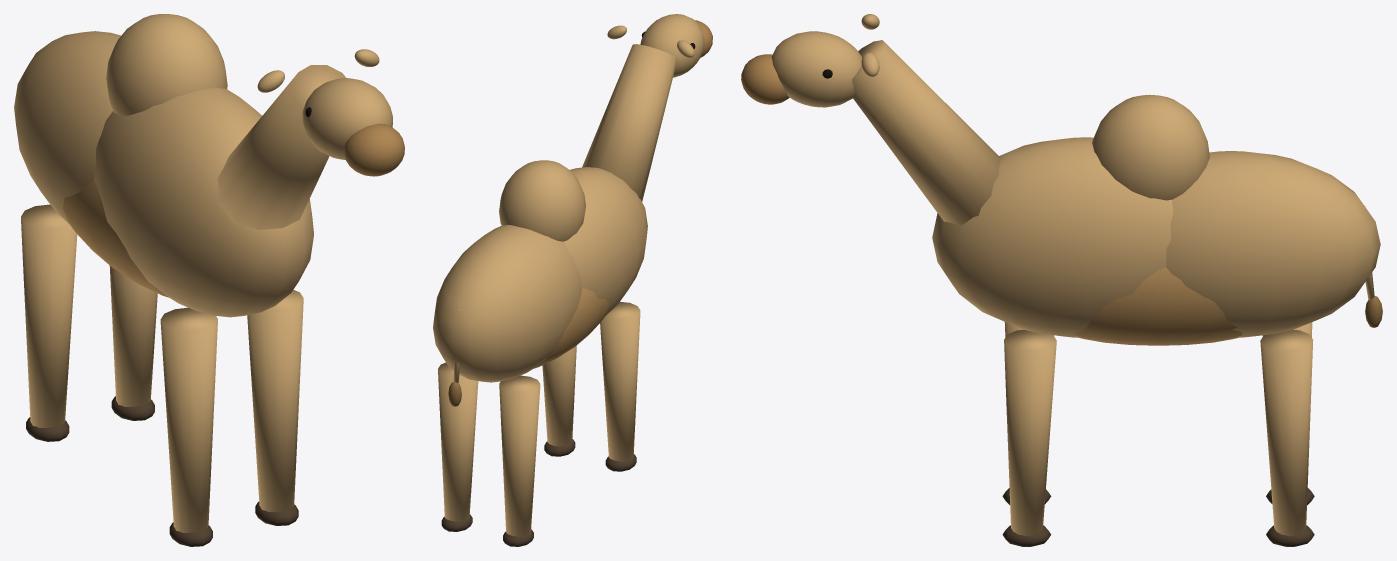
File: camel.glb
The picture shows the model from 3 angles, left to right: view 1: azimuth 30°, elevation 25°; view 2: azimuth 150°, elevation 25°; view 3: azimuth 270°, elevation 25°; orthographic projection. The views are drawn at different scales.
Parts seen in each view (by area): view 1: camel; view 2: camel; view 3: camel.
Part boxes in pixels (bbox=[...]): camel: bbox=[14, 14, 404, 546]; camel: bbox=[433, 14, 712, 546]; camel: bbox=[741, 14, 1382, 546].
Bounding box in the file's own units: 0.901 × 3.04 × 3.61.
